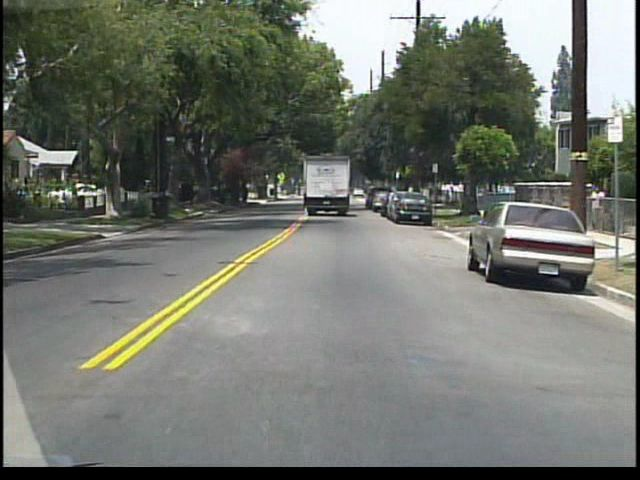person: (587, 181, 607, 231)
